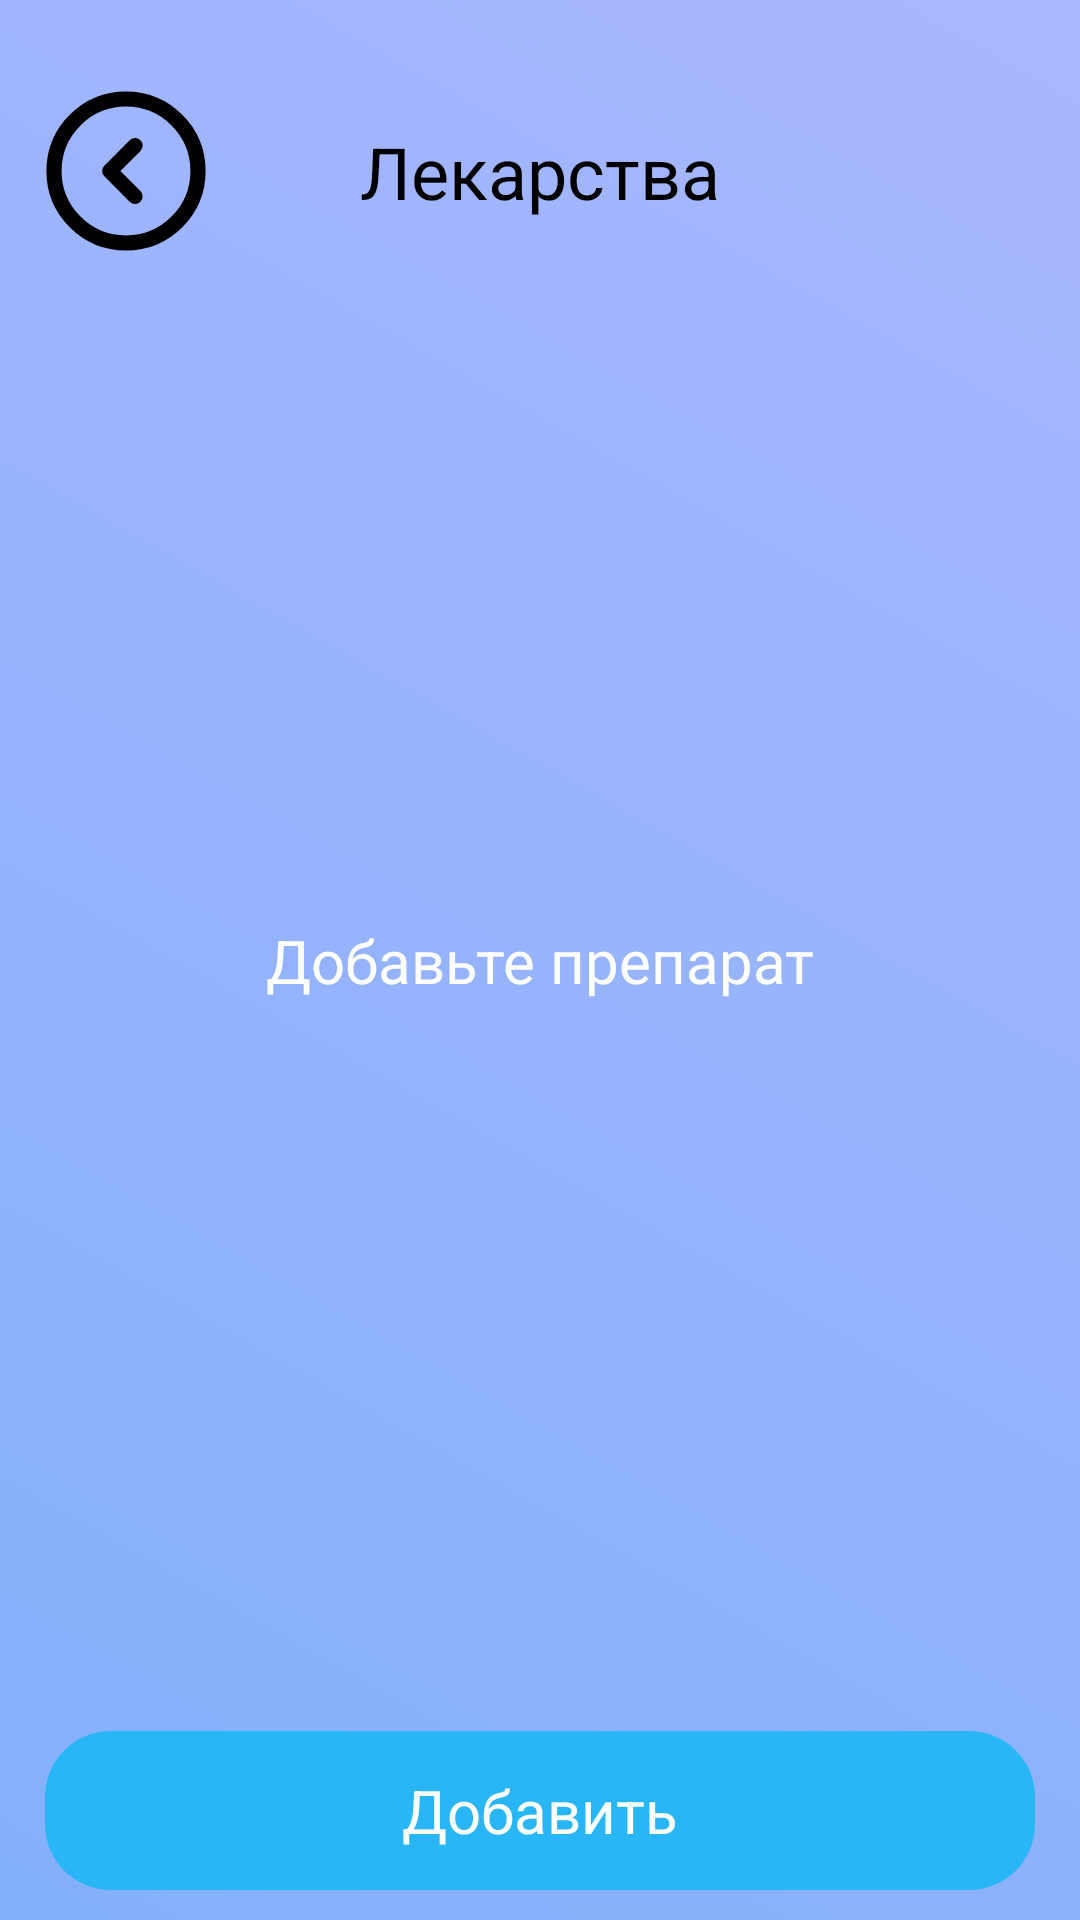

Where icons sit on this 1080px×1920px app screen, as (x1, y1, x2, y2):
arrow left: (46, 91, 206, 251)
